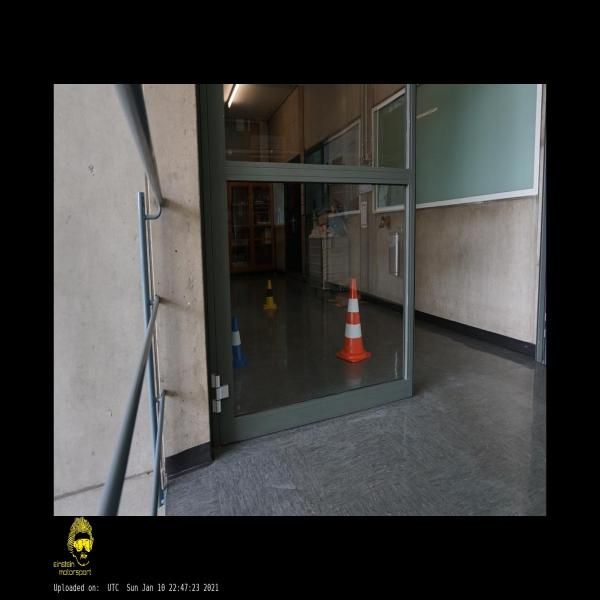blue_cone: (232, 316, 249, 370)
large_orange_cone: (335, 278, 372, 363)
yellow_cone: (263, 280, 277, 310)
